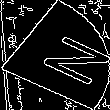N_NW: (11, 24, 99, 86)
